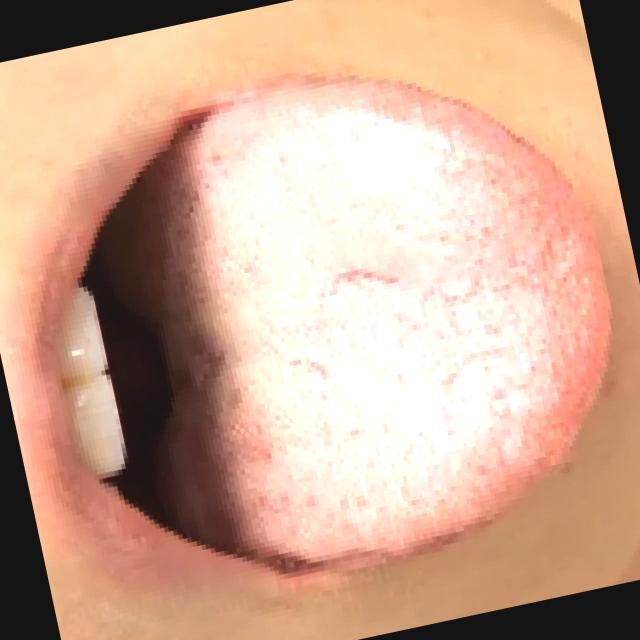No Cancer: (170, 42, 640, 567)
